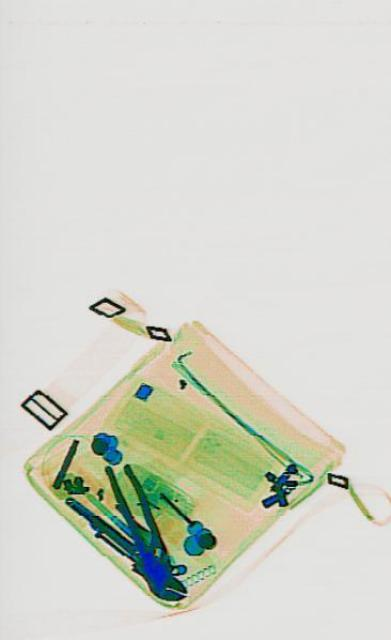Pliers: (101, 444, 179, 602)
